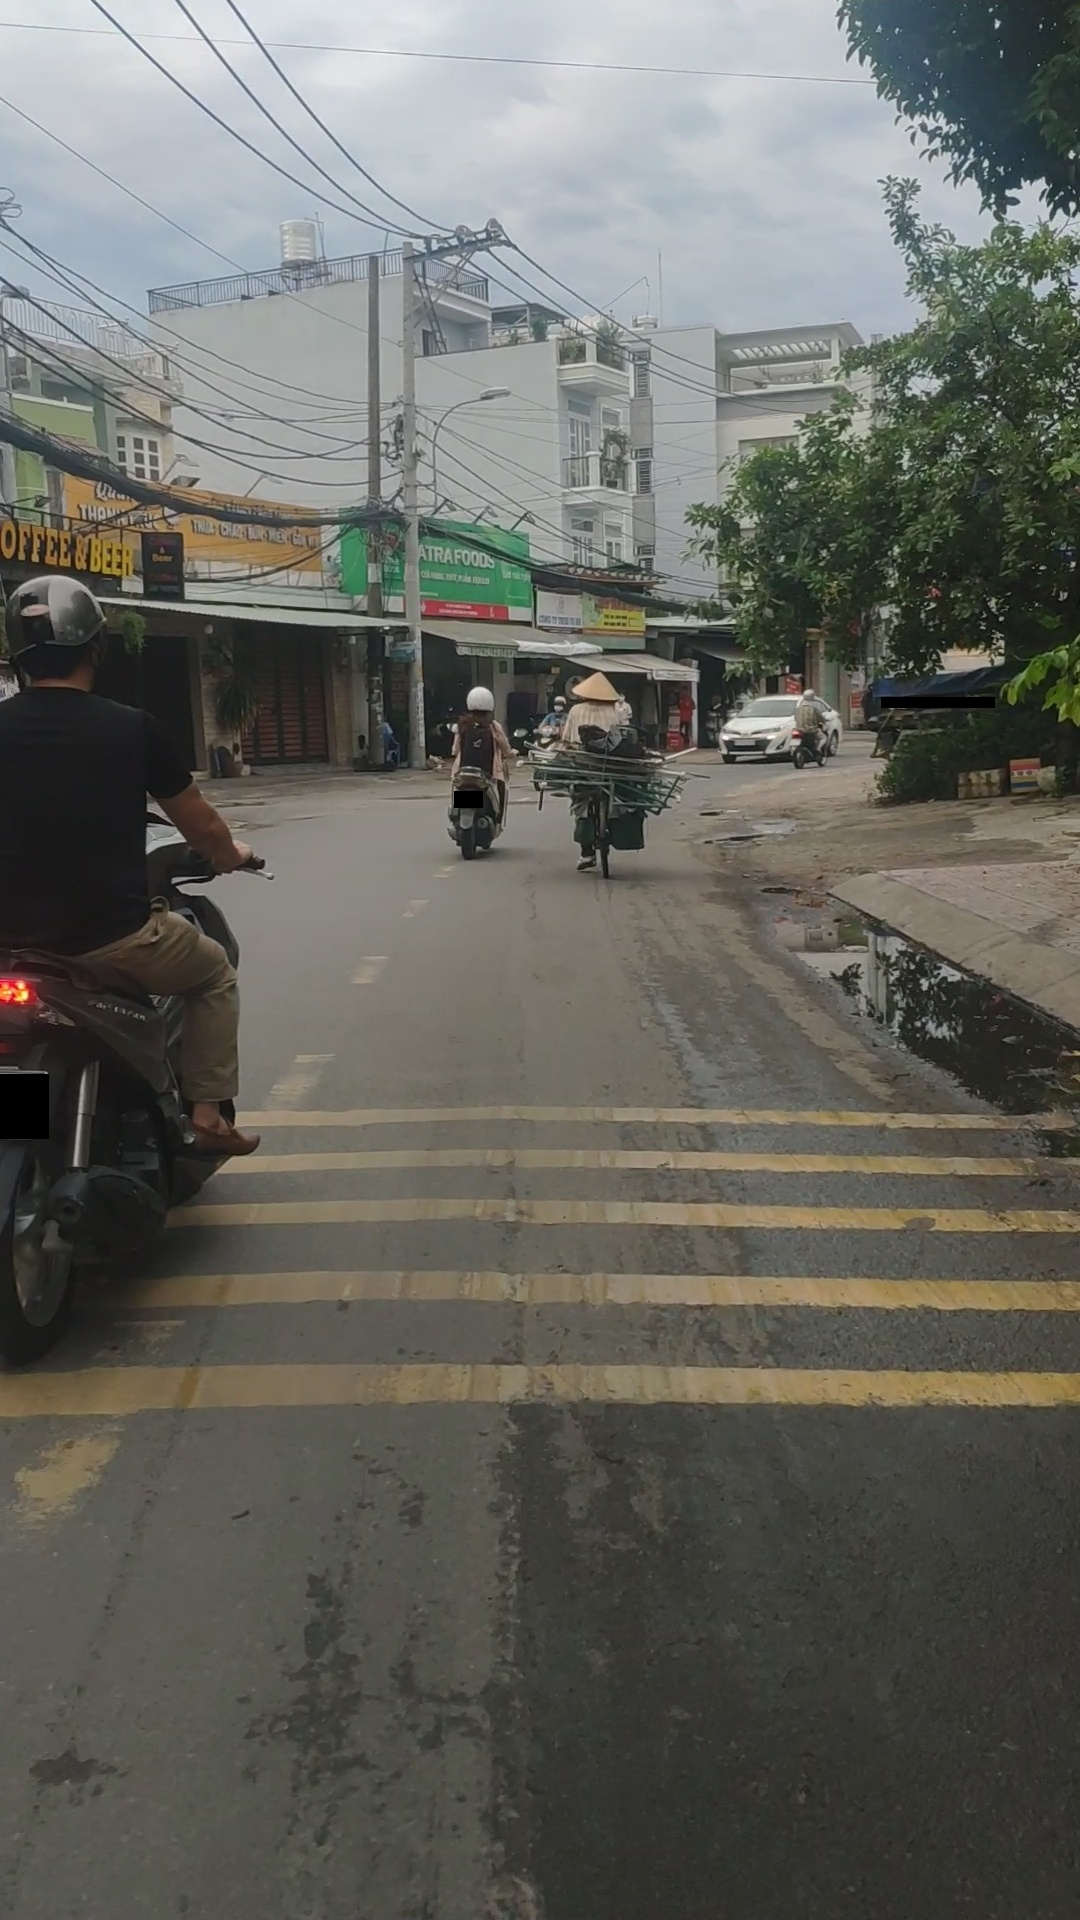hole: (766, 915, 1080, 1153), (694, 829, 786, 848), (754, 880, 812, 898), (694, 804, 742, 818)
